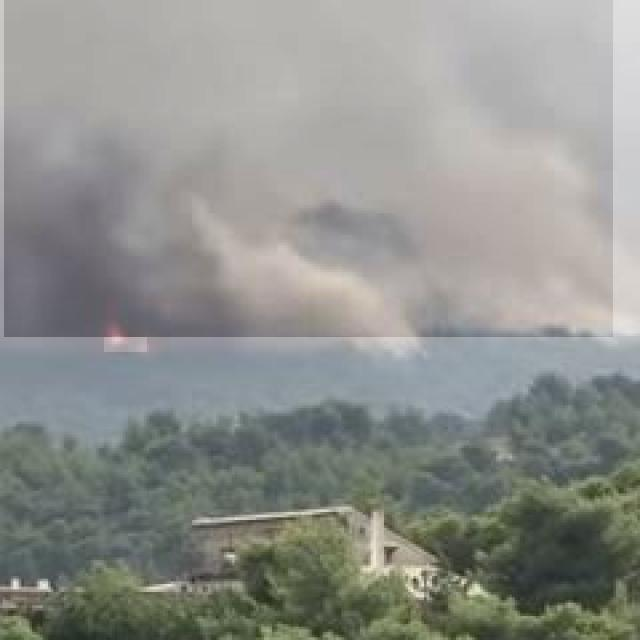Fire: (104, 319, 147, 352)
Smoke: (4, 0, 613, 337)
